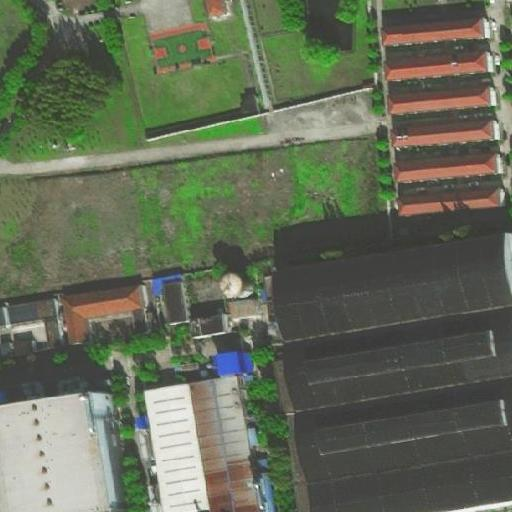building: (291, 388, 511, 512), (274, 230, 512, 343), (282, 310, 511, 418), (2, 390, 119, 512), (188, 371, 278, 509), (138, 375, 212, 512), (63, 285, 155, 343), (384, 41, 493, 78), (390, 75, 497, 112), (400, 146, 504, 180), (383, 10, 488, 42), (395, 112, 499, 143), (403, 180, 505, 211), (184, 259, 252, 301), (0, 328, 52, 370), (158, 277, 193, 327), (2, 296, 56, 327), (211, 342, 254, 374), (195, 310, 234, 343), (228, 295, 265, 318), (138, 352, 158, 379)
